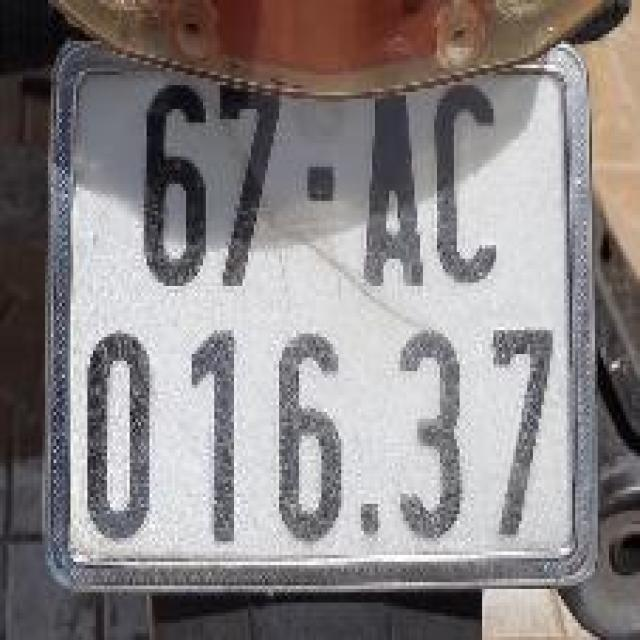0: (71, 317, 155, 548)
1: (173, 305, 244, 543)
3: (386, 311, 468, 550)
6: (265, 306, 350, 555), (134, 72, 221, 291)
7: (480, 313, 562, 548), (217, 72, 288, 300)
A: (352, 84, 432, 302)
C: (424, 78, 523, 293)
